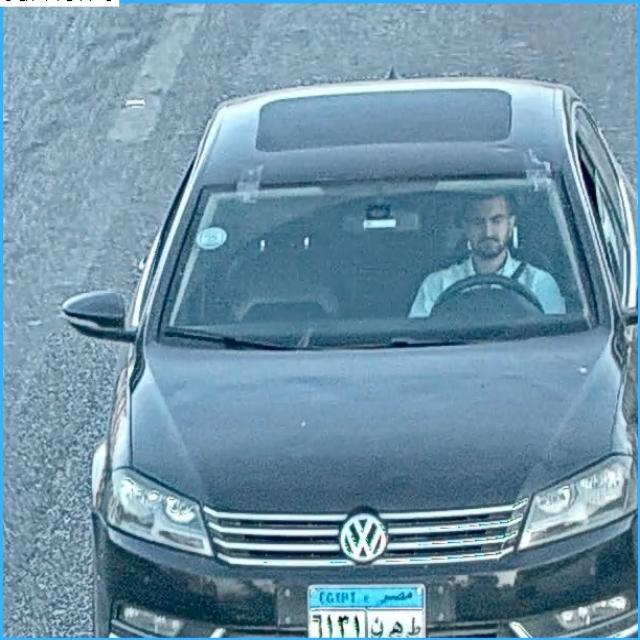windshield: (154, 184, 599, 337)
